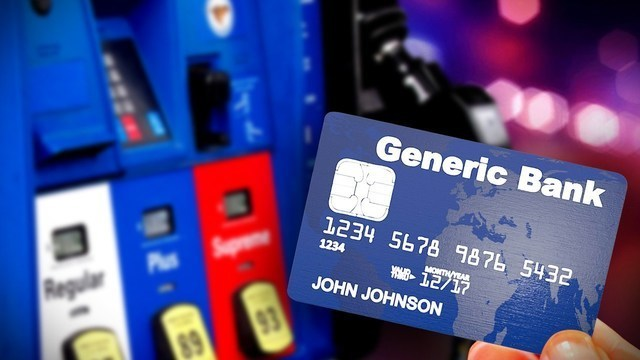tarjeta: (285, 111, 630, 354)
